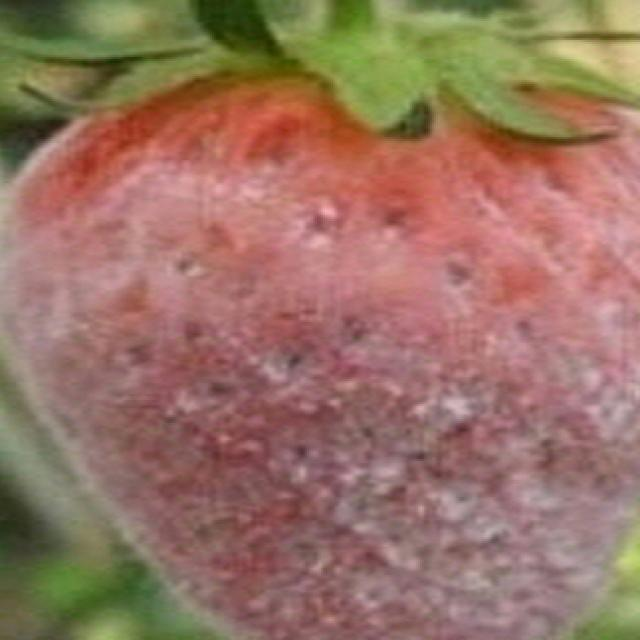Powdery Mildew Fruit: (0, 12, 640, 640)
